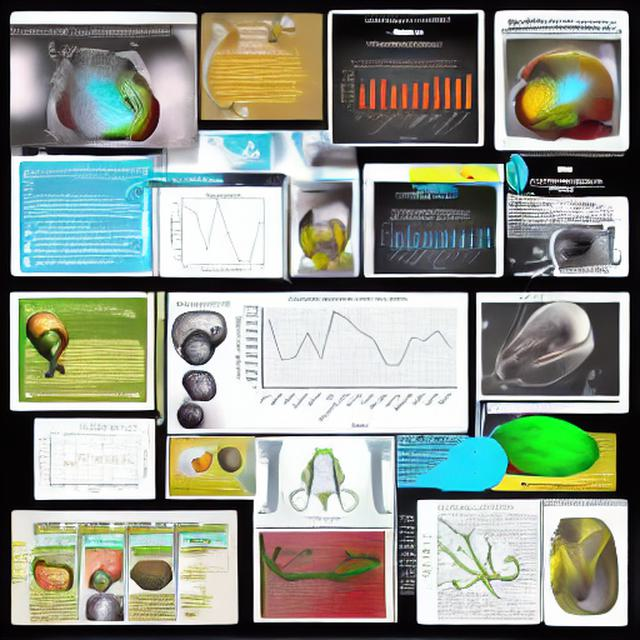Graph: (233, 295, 461, 429), (333, 56, 478, 143), (164, 188, 279, 274), (379, 206, 487, 275), (37, 432, 142, 494)
